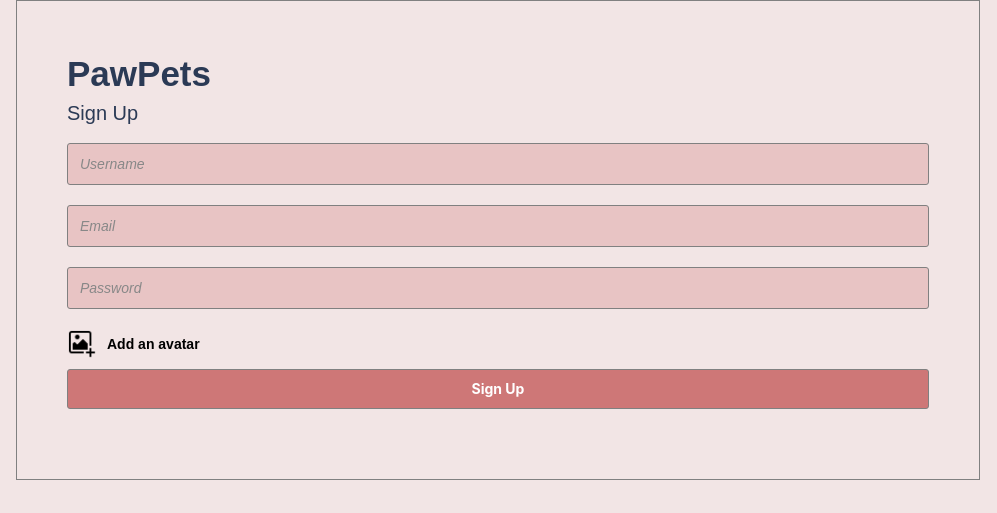
Test: Signup Component › shows error message on failed signup
Type "test@example.com" into the field with placeholder "Email" at (498, 226), box [67,205,929,247]
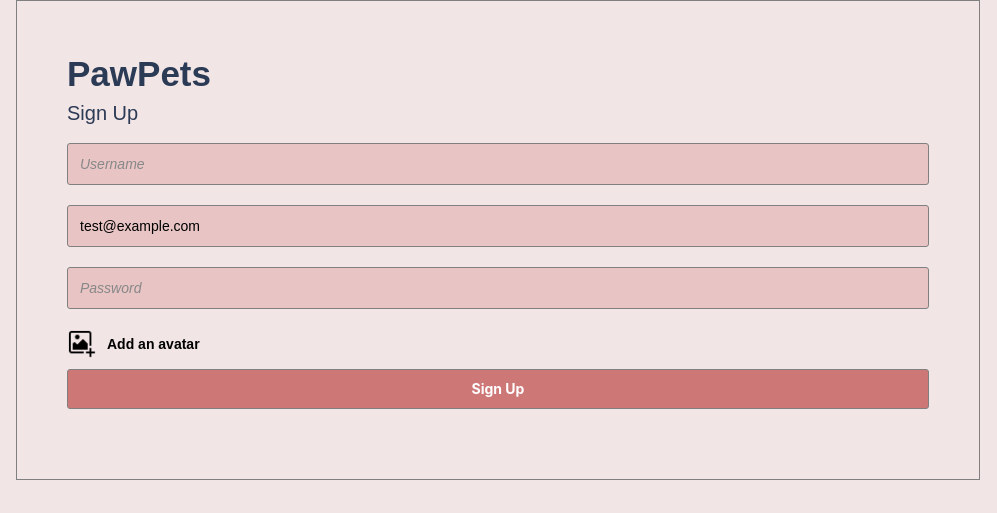
Type "password123" into the password field with placeholder "Password" at (498, 288), box [67,267,929,309]
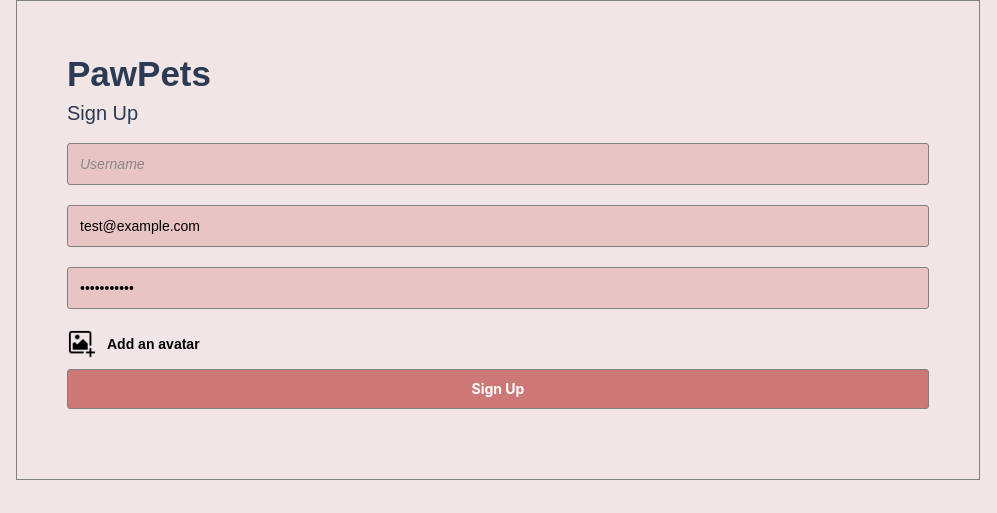
Click the button "Sign Up" at (498, 389), box [67,369,929,409]
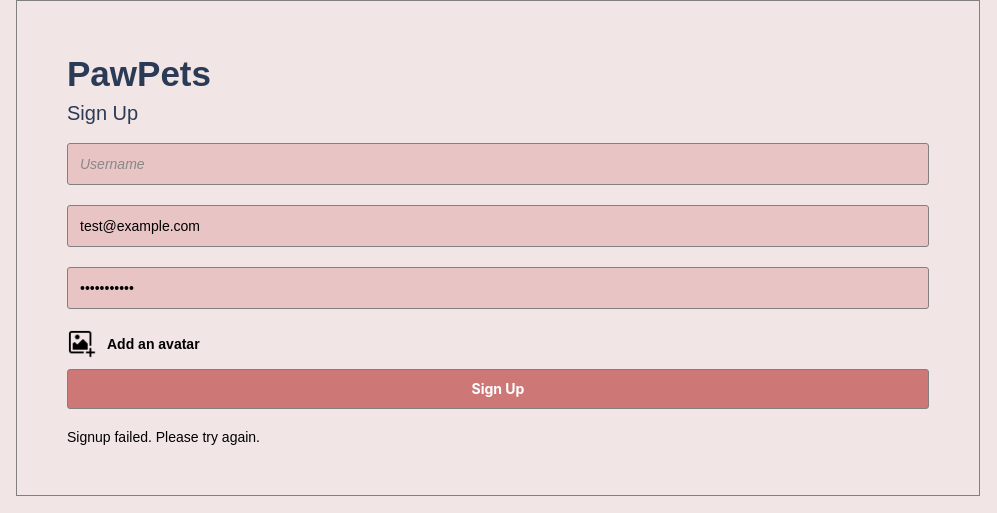
Expected: the text "Signup failed. Please try again." is shown, [67,429,260,445]
